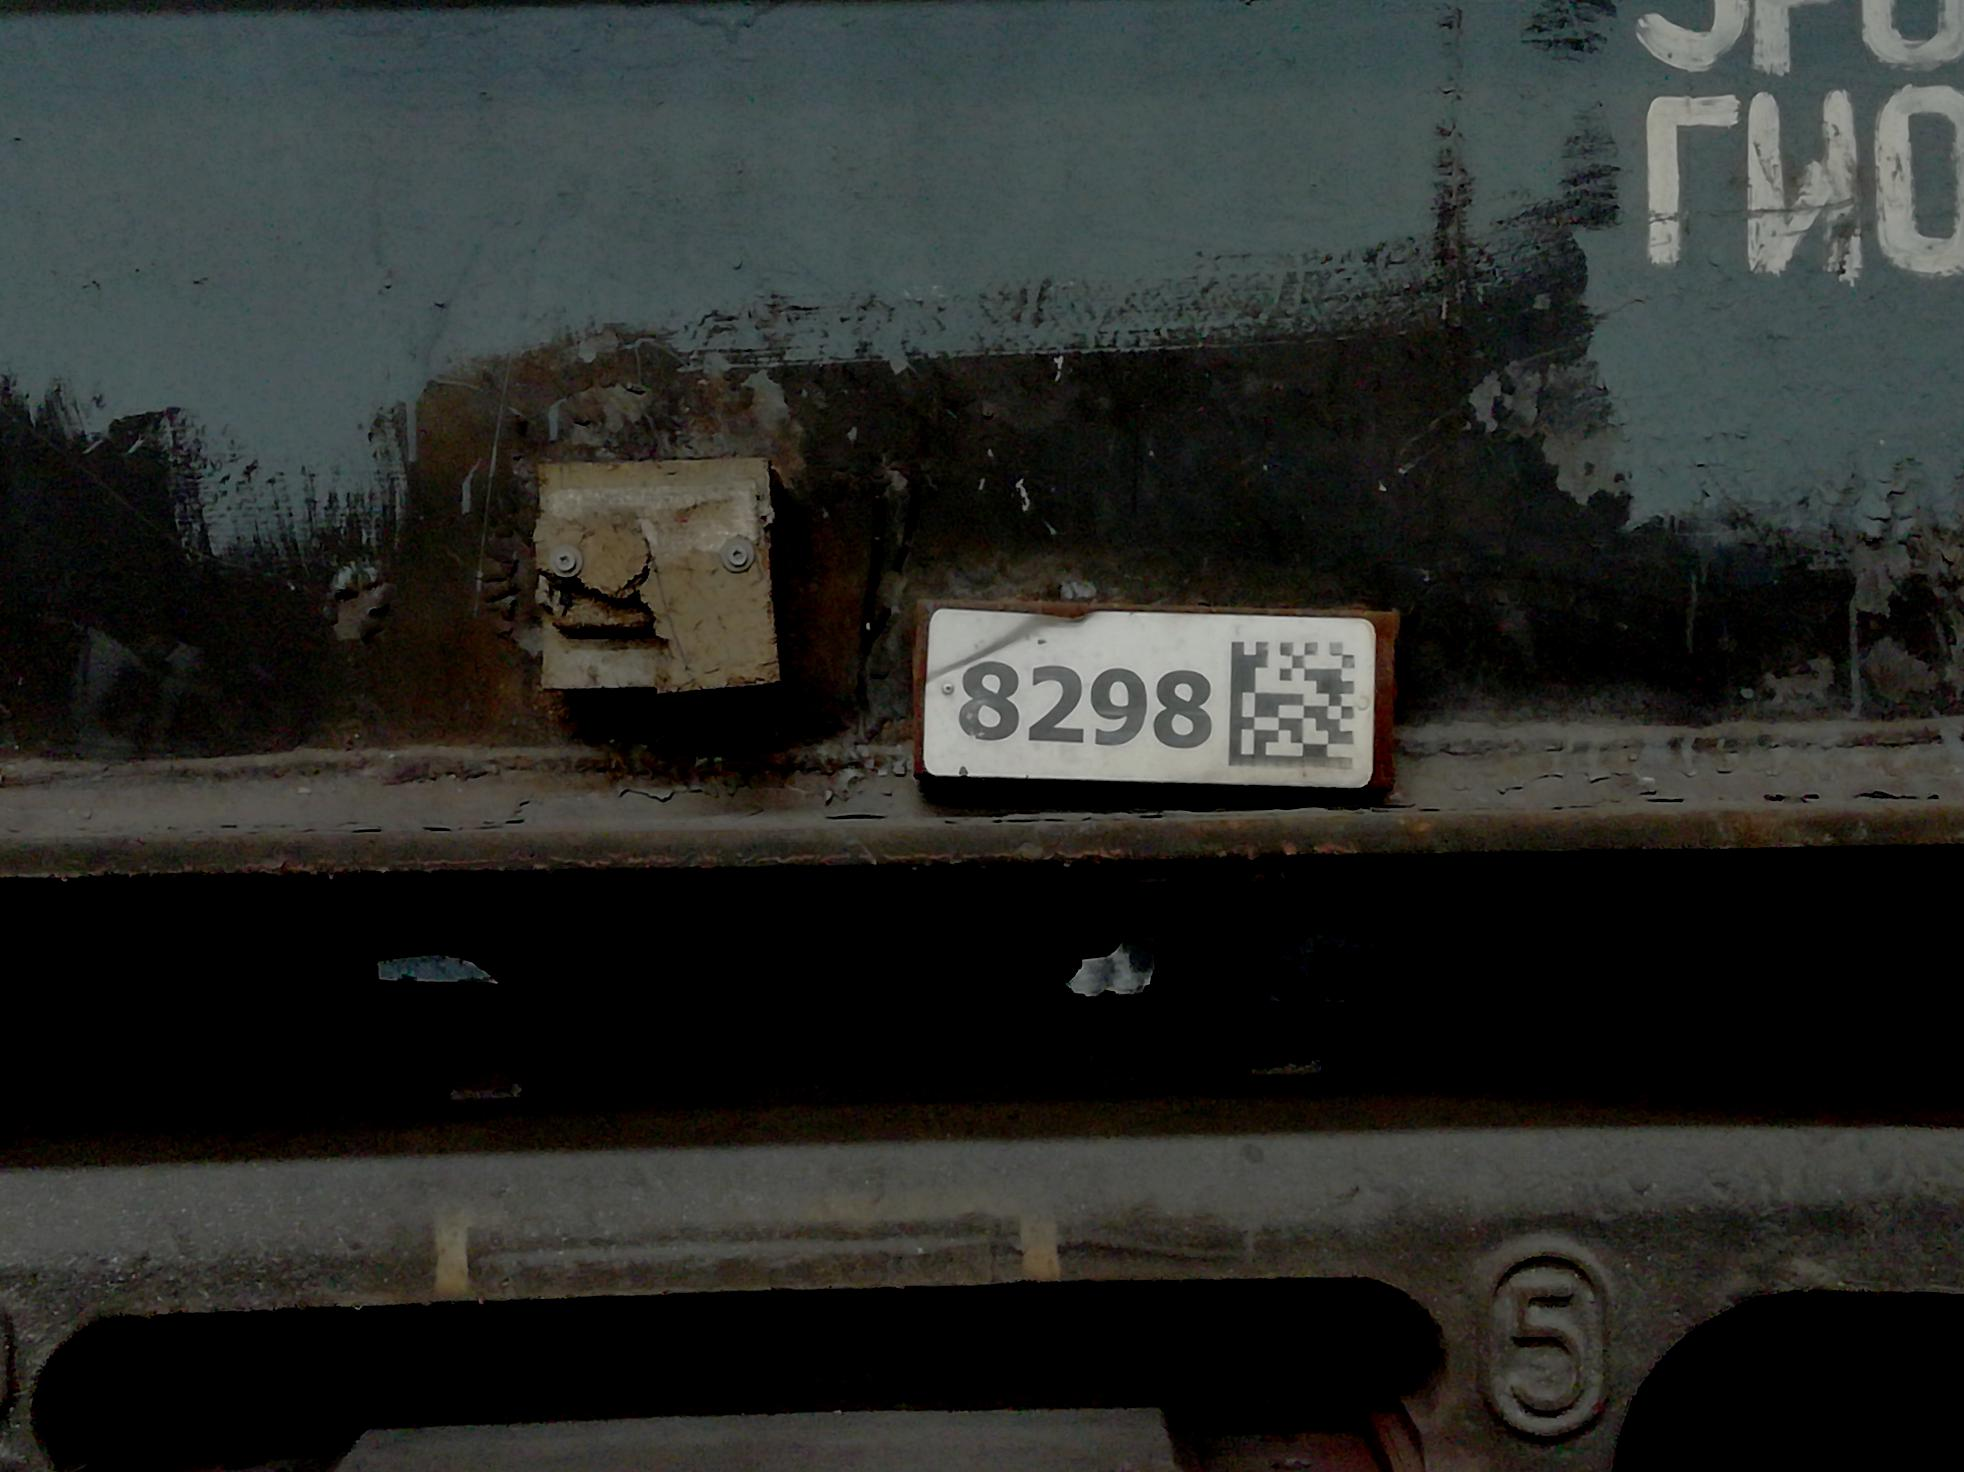data matrix: (1216, 620, 1386, 789)
